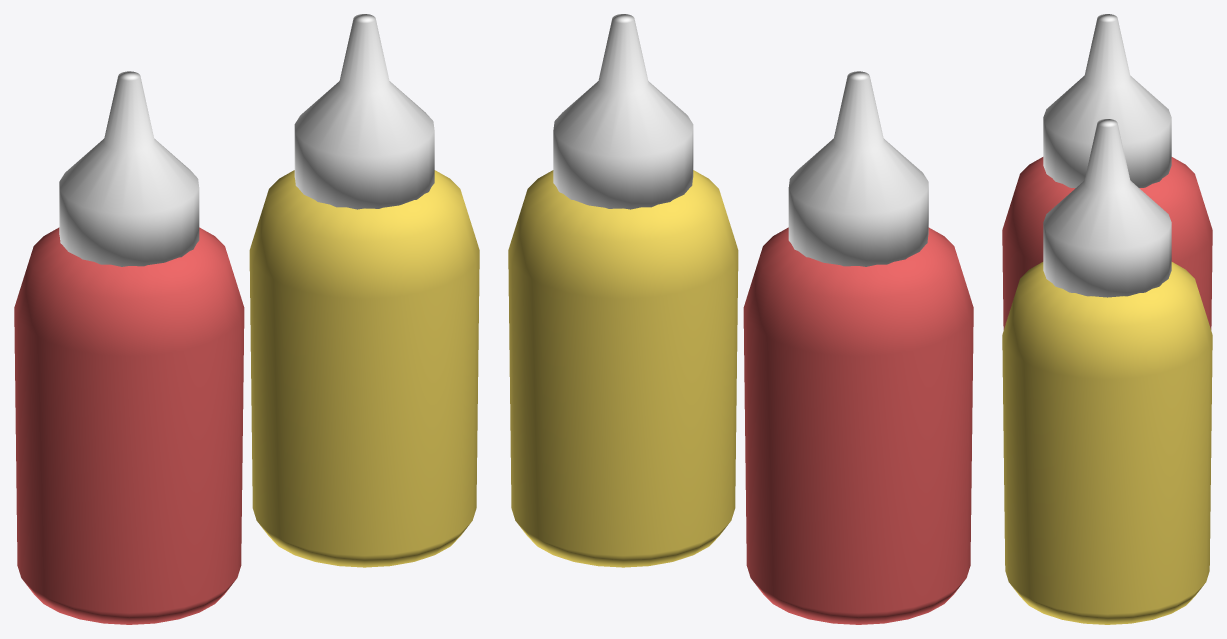
File: PrimeCutSauces.glb
3 views of the same model, side by side, from view 1: azimuth 30°, elevation 25°; view 2: azimuth 150°, elevation 25°; view 3: azimuth 270°, elevation 25° (orthographic). The views are drawn at different scales.
Parts seen in each view (by area): view 1: Mustard, Ketchup, Caps; view 2: Mustard, Ketchup, Caps; view 3: Mustard, Caps, Ketchup.
Boxes of the visible parts, x1=… form: Mustard: x1=249, y1=170, x2=479, y2=567; Ketchup: x1=14, y1=227, x2=244, y2=624; Caps: x1=59, y1=14, x2=434, y2=266; Mustard: x1=508, y1=170, x2=738, y2=567; Ketchup: x1=743, y1=227, x2=973, y2=624; Caps: x1=553, y1=14, x2=928, y2=266; Mustard: x1=1002, y1=262, x2=1212, y2=624; Caps: x1=1043, y1=14, x2=1171, y2=297; Ketchup: x1=1002, y1=157, x2=1212, y2=329.
Size of the model in its own units: 3.14 by 3.5 by 1.44.
